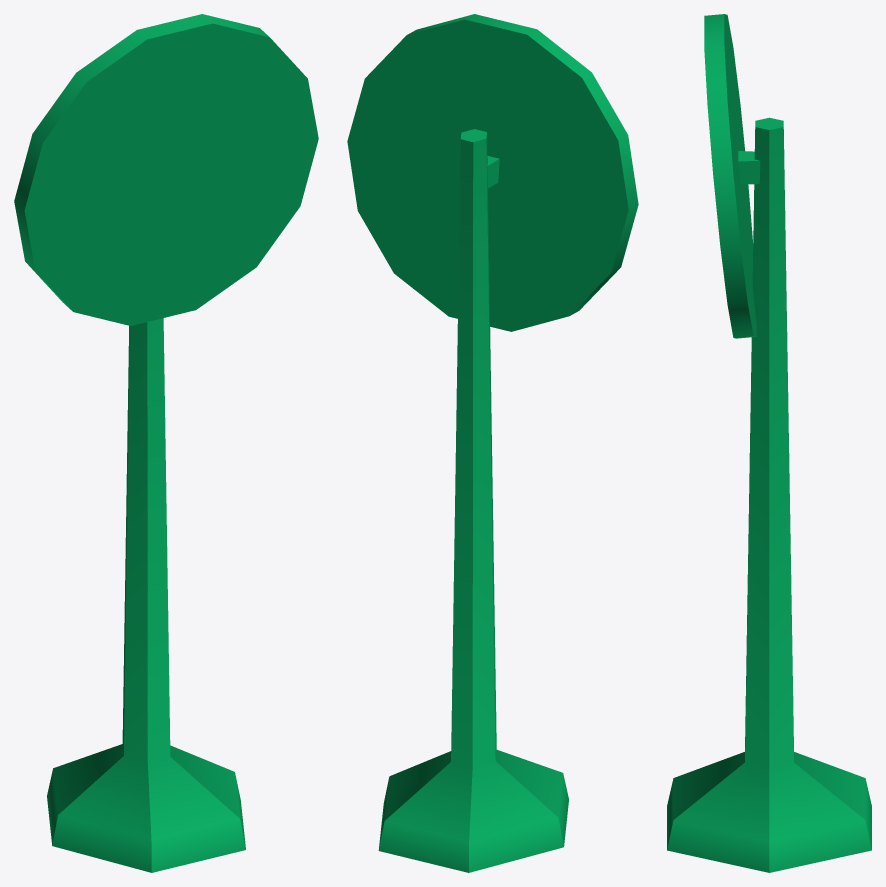
Rendered from Circle_sign.fbx.
3 renders of one model, left to right at view 1: azimuth 30°, elevation 25°; view 2: azimuth 150°, elevation 25°; view 3: azimuth 270°, elevation 25°, orthographic. The views are drawn at different scales.
Visible parts, largest first — view 1: pCube5; view 2: pCube5; view 3: pCube5.
Boxes of the visible parts, left/top/right/bottom form: pCube5: left=14, top=14, right=318, bottom=872; pCube5: left=347, top=14, right=638, bottom=872; pCube5: left=667, top=14, right=871, bottom=872.
Size of the model in its own units: 0.6826 by 1.81 by 0.4214.
